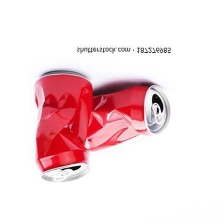can: (23, 68, 96, 185), (76, 81, 180, 156)
